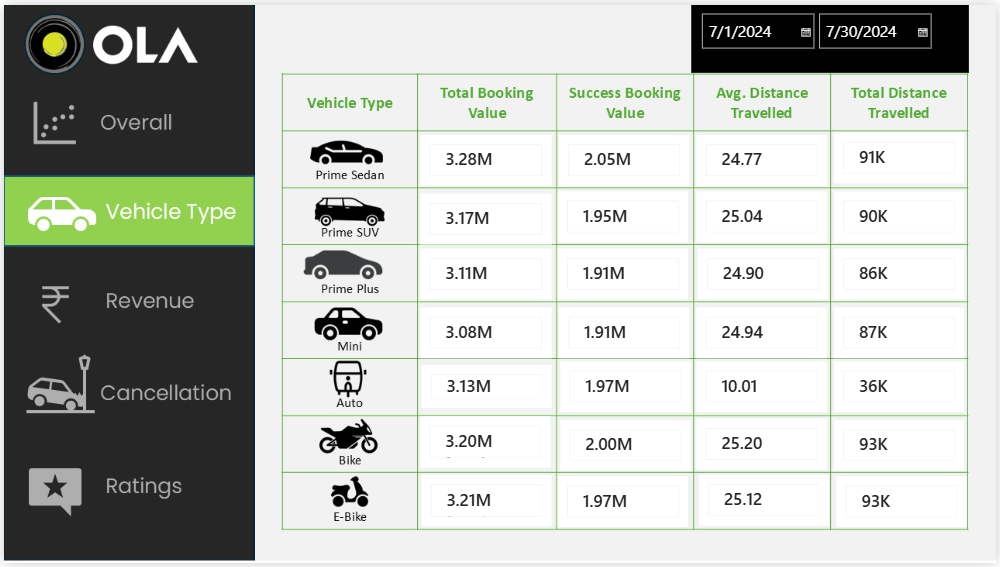

The dashboard page shown, as its layout file describes it:
{"tool":"powerbi","page":{"name":"Vehicle Type","canvas":[1280,720],"ordinal":1},"visuals":[{"type":"actionButton","box":[0,224.5,326.5,85.7],"z":0},{"type":"actionButton","box":[0,322.4,326.5,110.2],"z":1000},{"type":"actionButton","box":[0,432.7,326.5,126.5],"z":2000},{"type":"actionButton","box":[0,559.2,326.5,132.7],"z":3000},{"type":"actionButton","box":[0,104.1,326.5,106.1],"z":4000},{"type":"cardVisual","fields":{"Data":["Sum(July.Booking_Value)"]},"box":[532.7,385.5,179.1,75.5],"z":5000},{"type":"cardVisual","fields":{"Data":["Sum(July.Booking_Value)"]},"box":[532.7,239.1,179.1,75.5],"z":6000},{"type":"cardVisual","fields":{"Data":["Sum(July.Booking_Value)"]},"box":[532.7,310,179.1,75.5],"z":7000},{"type":"cardVisual","fields":{"Data":["Sum(July.Booking_Value)"]},"box":[532.7,163.6,179.1,75.5],"z":8000},{"type":"cardVisual","fields":{"Data":["Sum(July.Booking_Value)"]},"box":[533.3,460,178.3,65],"z":9000},{"type":"cardVisual","fields":{"Data":["Sum(July.Booking_Value)"]},"box":[531.7,525,178.3,76.7],"z":10000},{"type":"cardVisual","fields":{"Data":["Sum(July.Booking_Value)"]},"box":[533.3,601.7,178.3,76.7],"z":11000},{"type":"cardVisual","fields":{"Data":["Sum(July.Booking_Value)"]},"box":[711.7,163.3,178.3,75],"z":12000},{"type":"cardVisual","fields":{"Data":["Sum(July.Booking_Value)"]},"box":[710,235,178.3,75],"z":13000},{"type":"cardVisual","fields":{"Data":["Sum(July.Booking_Value)"]},"box":[710,310,178.3,75],"z":14000},{"type":"cardVisual","fields":{"Data":["Sum(July.Booking_Value)"]},"box":[711.7,385,178.3,75],"z":15000},{"type":"cardVisual","fields":{"Data":["Sum(July.Booking_Value)"]},"box":[713.3,455,178.3,75],"z":16000},{"type":"cardVisual","fields":{"Data":["Sum(July.Booking_Value)"]},"box":[713.3,530,178.3,75],"z":17000},{"type":"cardVisual","fields":{"Data":["Sum(July.Booking_Value)"]},"box":[710,603.3,178.3,75],"z":18000},{"type":"cardVisual","fields":{"Data":["Avg(July.Ride_Distance)"]},"box":[888.3,163.3,178.3,75],"z":19000},{"type":"cardVisual","fields":{"Data":["Avg(July.Ride_Distance)"]},"box":[888.3,235,178.3,75],"z":20000},{"type":"cardVisual","fields":{"Data":["Avg(July.Ride_Distance)"]},"box":[890,310,178.3,75],"z":21000},{"type":"cardVisual","fields":{"Data":["Avg(July.Ride_Distance)"]},"box":[888.3,385,178.3,75],"z":22000},{"type":"cardVisual","fields":{"Data":["Avg(July.Ride_Distance)"]},"box":[888.3,455,178.3,75],"z":23000},{"type":"cardVisual","fields":{"Data":["Avg(July.Ride_Distance)"]},"box":[888.3,528.3,178.3,75],"z":24000},{"type":"cardVisual","fields":{"Data":["Avg(July.Ride_Distance)"]},"box":[891.7,601.7,178.3,75],"z":25000},{"type":"cardVisual","fields":{"Data":["Sum(July.Ride_Distance)"]},"box":[1066.7,160,178.3,75],"z":26000},{"type":"cardVisual","fields":{"Data":["Sum(July.Ride_Distance)"]},"box":[1066.7,235,178.3,75],"z":27000},{"type":"cardVisual","fields":{"Data":["Sum(July.Ride_Distance)"]},"box":[1066.7,310,178.3,75],"z":28000},{"type":"cardVisual","fields":{"Data":["Sum(July.Ride_Distance)"]},"box":[1066.7,385,178.3,75],"z":29000},{"type":"cardVisual","fields":{"Data":["Sum(July.Ride_Distance)"]},"box":[1066.7,530,178.3,75],"z":30000},{"type":"cardVisual","fields":{"Data":["Sum(July.Ride_Distance)"]},"box":[1066.7,455,178.3,75],"z":31000},{"type":"cardVisual","fields":{"Data":["Sum(July.Ride_Distance)"]},"box":[1070,603.3,178.3,75],"z":32000},{"type":"slicer","title":"DATE","fields":{"Values":["July.Date"]},"box":[887.5,0,357.5,87.5],"z":33000}]}

Visuals, with their boxes on the page's 1280x720 design canvas (x1, y1, x2, y2). These are canvas units, not pixel positions in the 1000x567 screenshot, which may show the page scaled, cropped or inside an application window:
actionButton: (x1=0, y1=224, x2=326, y2=310)
actionButton: (x1=0, y1=322, x2=326, y2=433)
actionButton: (x1=0, y1=433, x2=326, y2=559)
actionButton: (x1=0, y1=559, x2=326, y2=692)
actionButton: (x1=0, y1=104, x2=326, y2=210)
cardVisual - Sum(July.Booking_Value): (x1=533, y1=386, x2=712, y2=461)
cardVisual - Sum(July.Booking_Value): (x1=533, y1=239, x2=712, y2=315)
cardVisual - Sum(July.Booking_Value): (x1=533, y1=310, x2=712, y2=386)
cardVisual - Sum(July.Booking_Value): (x1=533, y1=164, x2=712, y2=239)
cardVisual - Sum(July.Booking_Value): (x1=533, y1=460, x2=712, y2=525)
cardVisual - Sum(July.Booking_Value): (x1=532, y1=525, x2=710, y2=602)
cardVisual - Sum(July.Booking_Value): (x1=533, y1=602, x2=712, y2=678)
cardVisual - Sum(July.Booking_Value): (x1=712, y1=163, x2=890, y2=238)
cardVisual - Sum(July.Booking_Value): (x1=710, y1=235, x2=888, y2=310)
cardVisual - Sum(July.Booking_Value): (x1=710, y1=310, x2=888, y2=385)
cardVisual - Sum(July.Booking_Value): (x1=712, y1=385, x2=890, y2=460)
cardVisual - Sum(July.Booking_Value): (x1=713, y1=455, x2=892, y2=530)
cardVisual - Sum(July.Booking_Value): (x1=713, y1=530, x2=892, y2=605)
cardVisual - Sum(July.Booking_Value): (x1=710, y1=603, x2=888, y2=678)
cardVisual - Avg(July.Ride_Distance): (x1=888, y1=163, x2=1067, y2=238)
cardVisual - Avg(July.Ride_Distance): (x1=888, y1=235, x2=1067, y2=310)
cardVisual - Avg(July.Ride_Distance): (x1=890, y1=310, x2=1068, y2=385)
cardVisual - Avg(July.Ride_Distance): (x1=888, y1=385, x2=1067, y2=460)
cardVisual - Avg(July.Ride_Distance): (x1=888, y1=455, x2=1067, y2=530)
cardVisual - Avg(July.Ride_Distance): (x1=888, y1=528, x2=1067, y2=603)
cardVisual - Avg(July.Ride_Distance): (x1=892, y1=602, x2=1070, y2=677)
cardVisual - Sum(July.Ride_Distance): (x1=1067, y1=160, x2=1245, y2=235)
cardVisual - Sum(July.Ride_Distance): (x1=1067, y1=235, x2=1245, y2=310)
cardVisual - Sum(July.Ride_Distance): (x1=1067, y1=310, x2=1245, y2=385)
cardVisual - Sum(July.Ride_Distance): (x1=1067, y1=385, x2=1245, y2=460)
cardVisual - Sum(July.Ride_Distance): (x1=1067, y1=530, x2=1245, y2=605)
cardVisual - Sum(July.Ride_Distance): (x1=1067, y1=455, x2=1245, y2=530)
cardVisual - Sum(July.Ride_Distance): (x1=1070, y1=603, x2=1248, y2=678)
"DATE" slicer: (x1=888, y1=0, x2=1245, y2=88)
